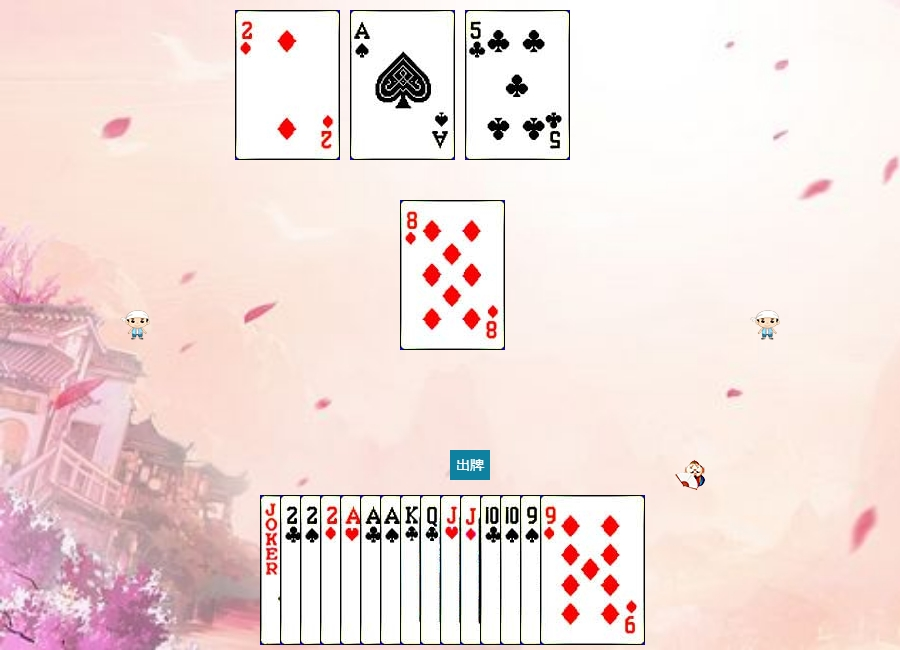10~2: (480, 495, 585, 645)
10~4: (500, 495, 605, 645)
11~1: (460, 495, 565, 645)
11~3: (440, 495, 545, 645)
12~2: (420, 495, 525, 645)
13~2: (400, 495, 505, 645)
14~2: (360, 495, 465, 645)
14~3: (340, 495, 445, 645)
14~4: (350, 10, 455, 160), (380, 495, 485, 645)
15~1: (235, 10, 340, 160), (320, 495, 425, 645)
15~2: (280, 495, 385, 645)
15~4: (300, 495, 405, 645)
18~4: (260, 495, 365, 645)
5~2: (465, 10, 570, 160)
8~1: (400, 200, 505, 350)
9~1: (540, 495, 645, 645)
9~4: (520, 495, 625, 645)
